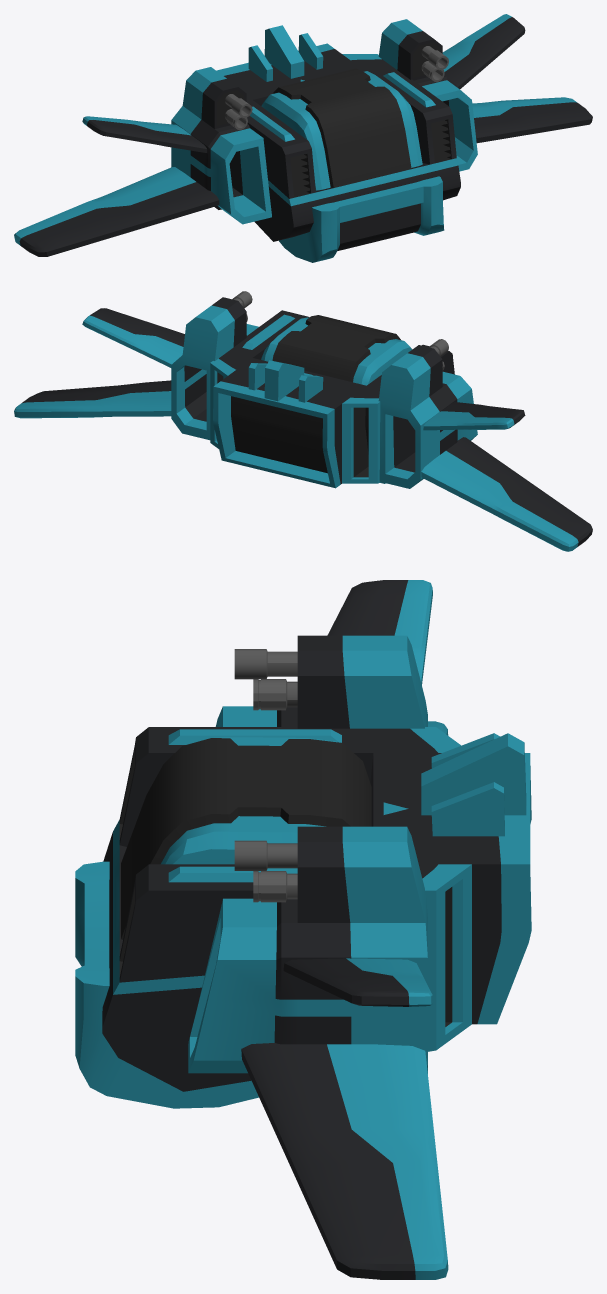
Rendered from SpaceshipC.glb.
3 views of the same model, one above another, from view 1: azimuth 30°, elevation 25°; view 2: azimuth 150°, elevation 25°; view 3: azimuth 270°, elevation 25° (orthographic). The views are drawn at different scales.
Parts seen in each view (by area): view 1: Spaceship_FinnTheFrog; view 2: Spaceship_FinnTheFrog; view 3: Spaceship_FinnTheFrog.
Boxes of the visible parts, box(x1,y1,x2,y2) form: Spaceship_FinnTheFrog: box(14, 14, 592, 262); Spaceship_FinnTheFrog: box(14, 291, 592, 551); Spaceship_FinnTheFrog: box(75, 580, 531, 1279).
Bounding box in the file's own units: 11.62 × 3.06 × 4.11.
1 material, 1 textured.
